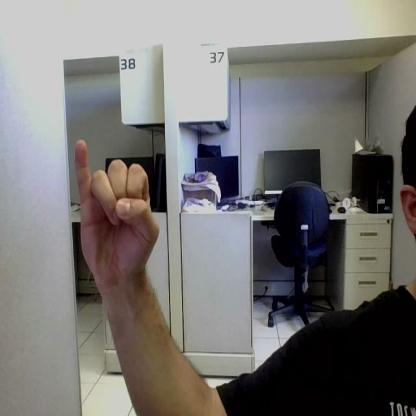I: (76, 140, 160, 278)
